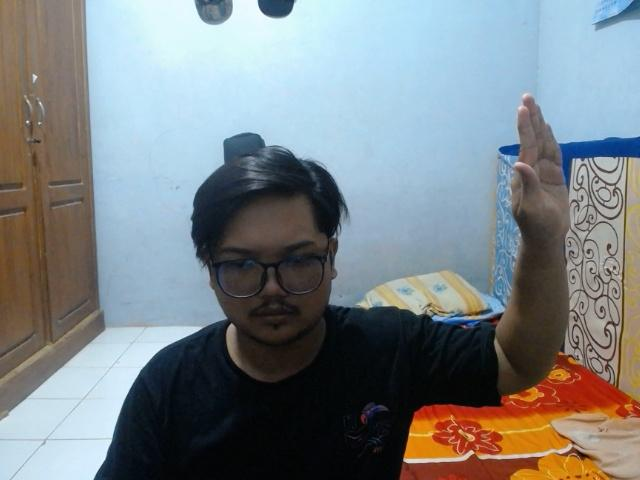Release: (507, 84, 576, 251)
